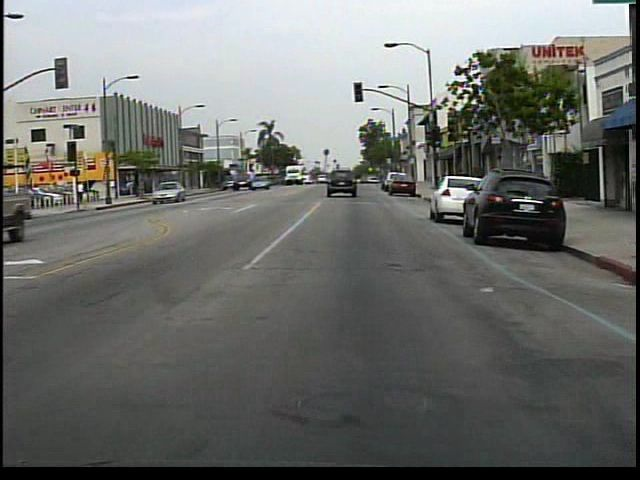person: (79, 179, 89, 206)
